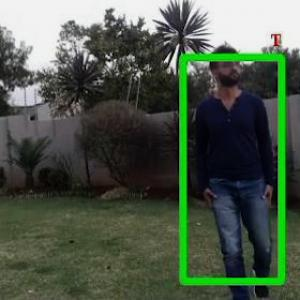follow: (194, 28, 280, 299)
